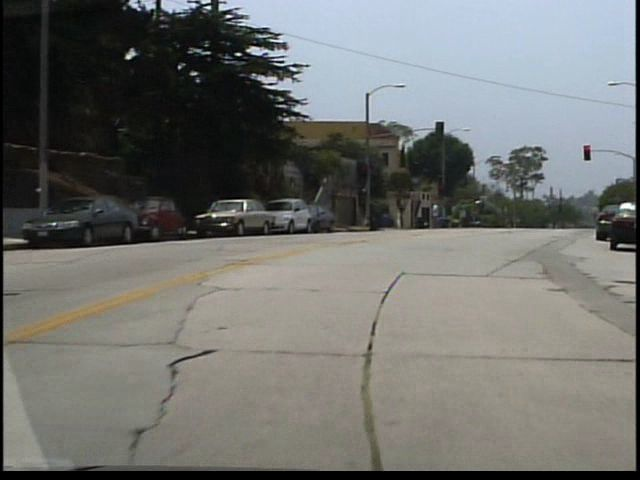person: (434, 201, 445, 230)
